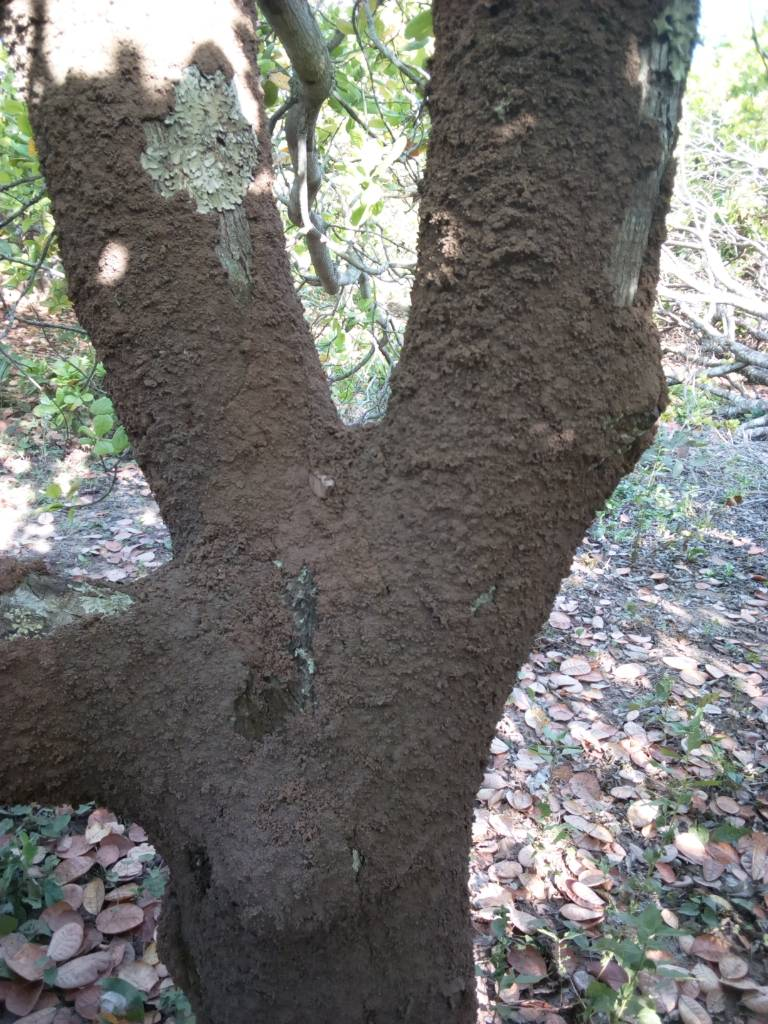Termites: (56, 75, 309, 472), (434, 9, 632, 491), (172, 496, 490, 758), (174, 760, 466, 1006), (1, 636, 143, 799)
